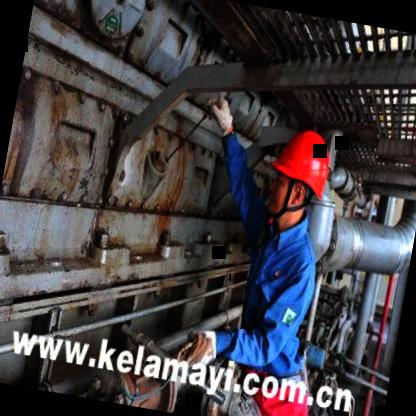helmet: (258, 118, 341, 238)
